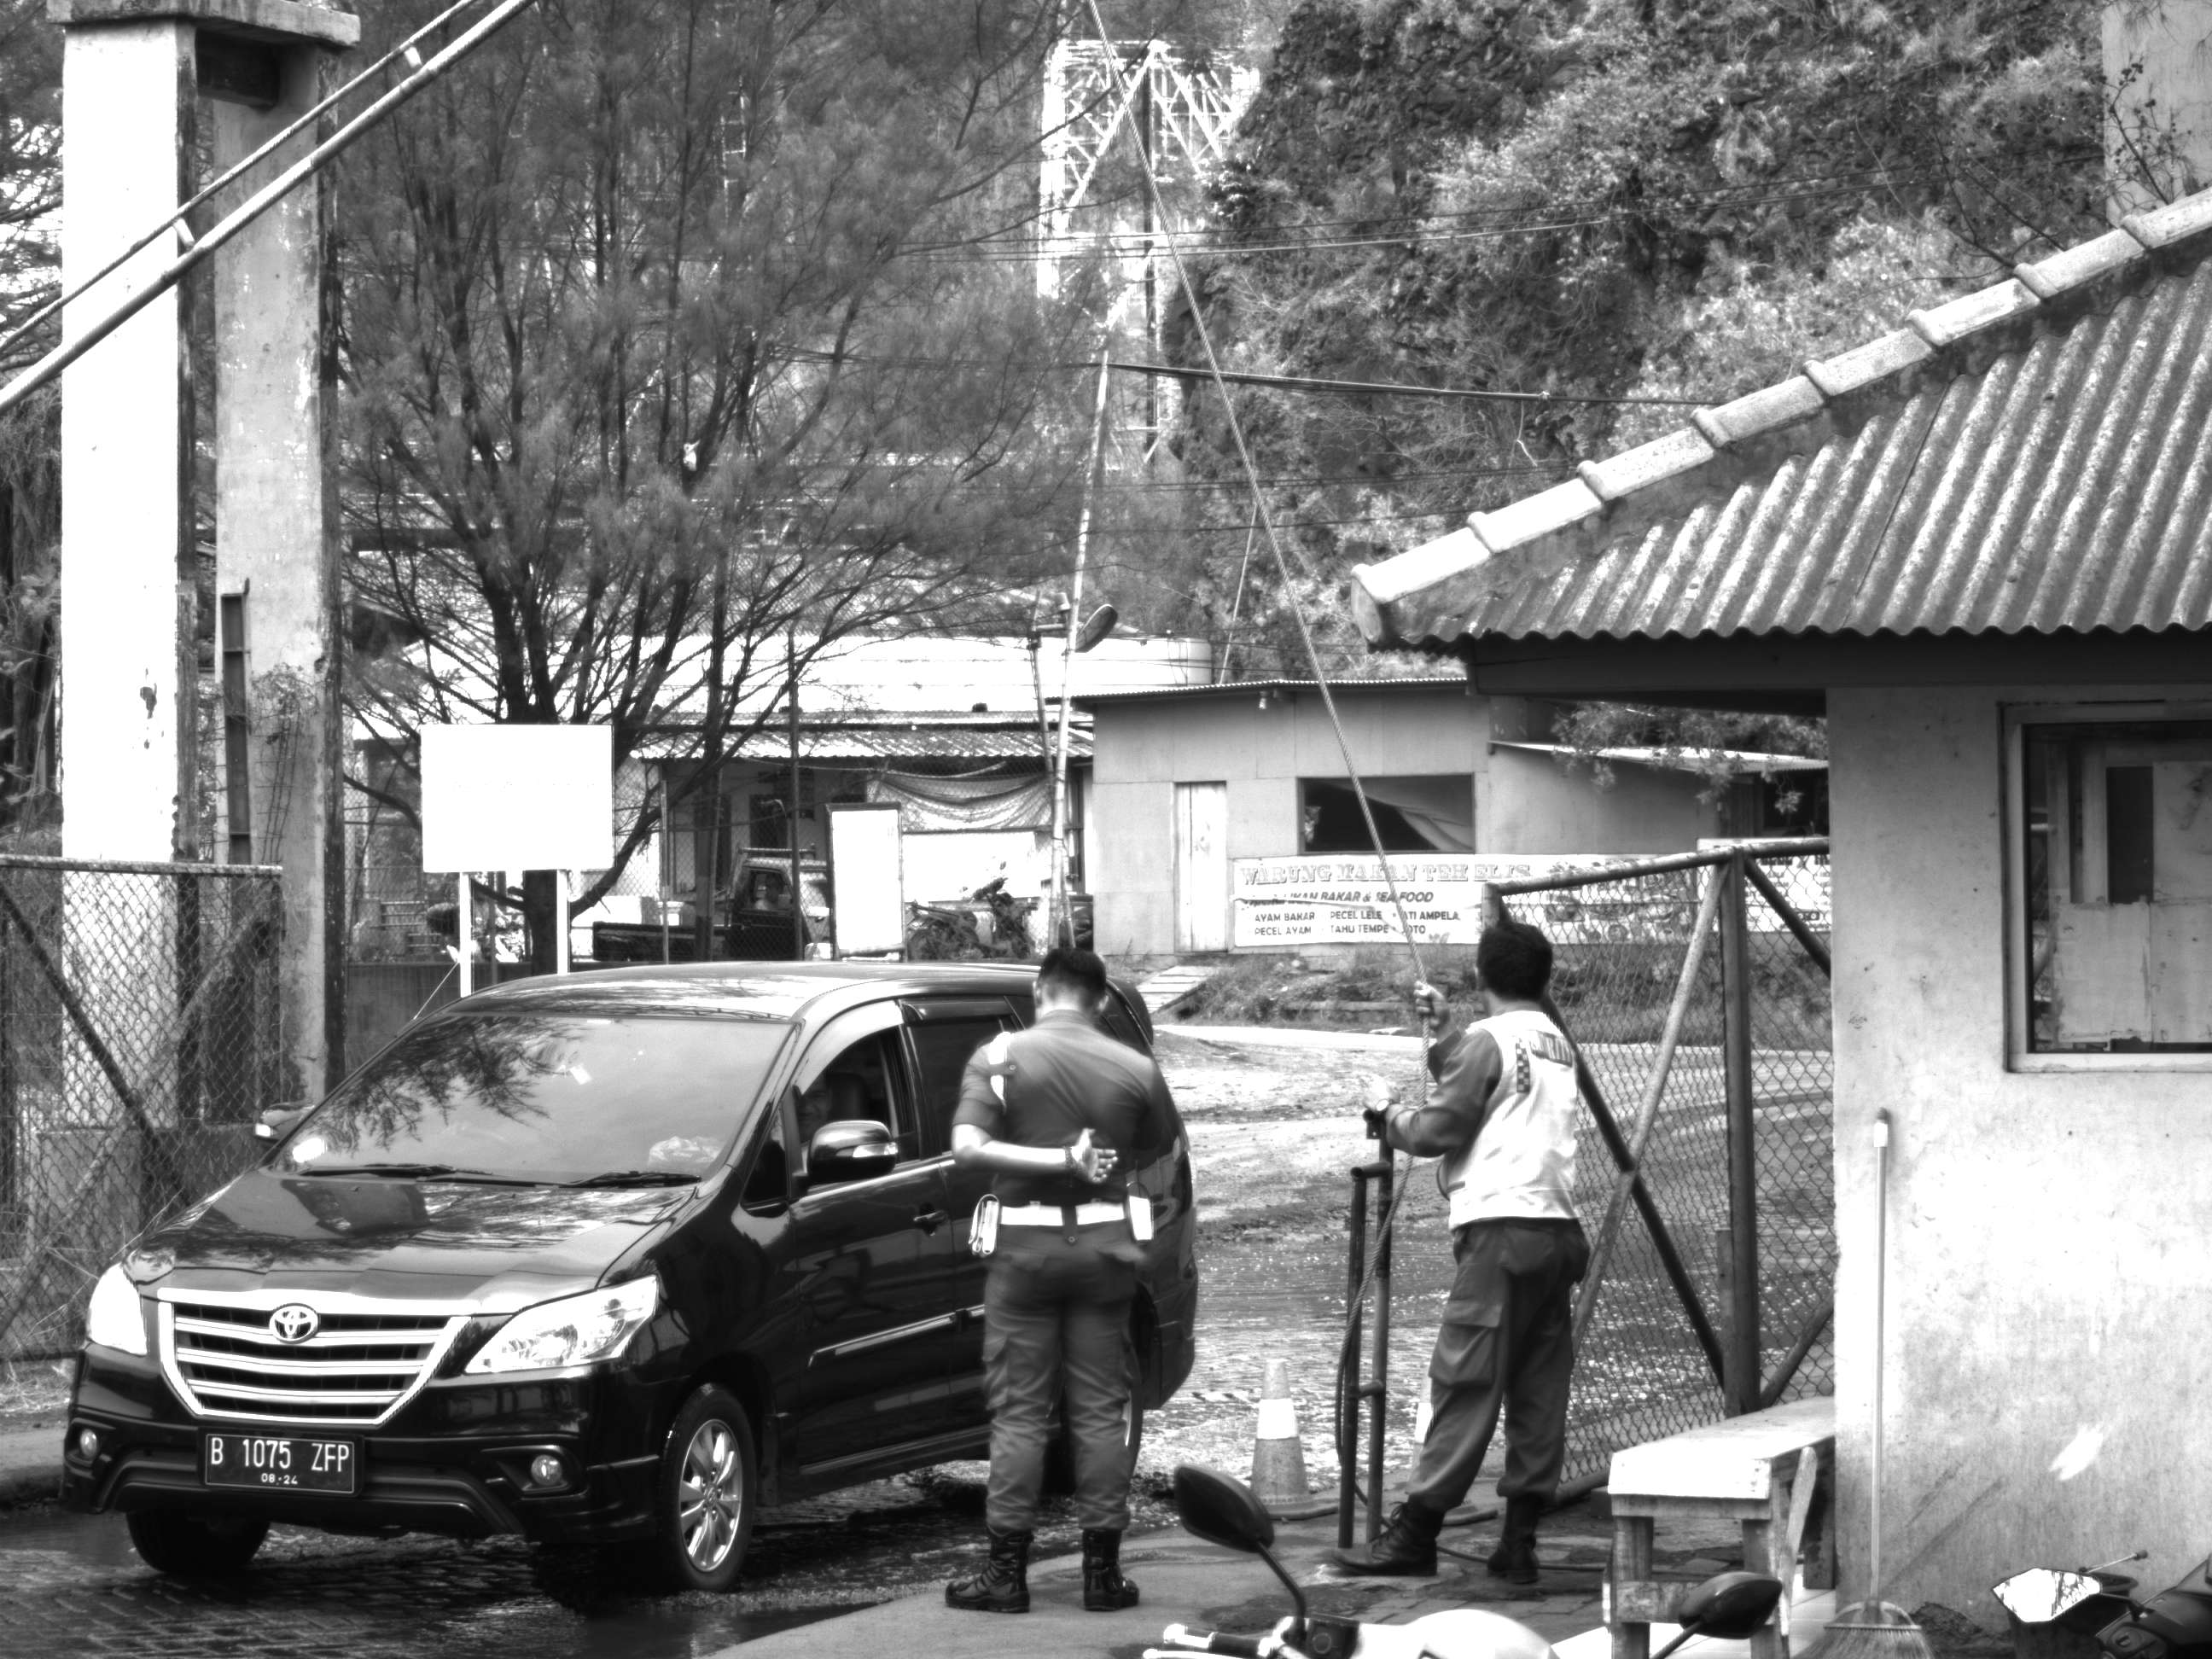day_small_front: (59, 981, 818, 1604)
plate: (198, 1424, 363, 1497)
